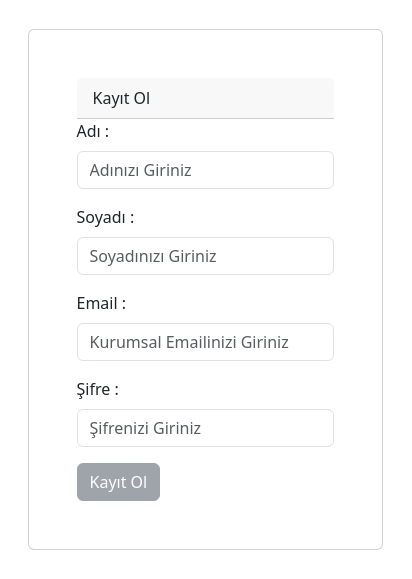
Test: Register Page › Error Messages › Surname input throws error for 2 chars
In the field with test id "soyad-input": (206, 256) [77,237,334,275], type "ko"
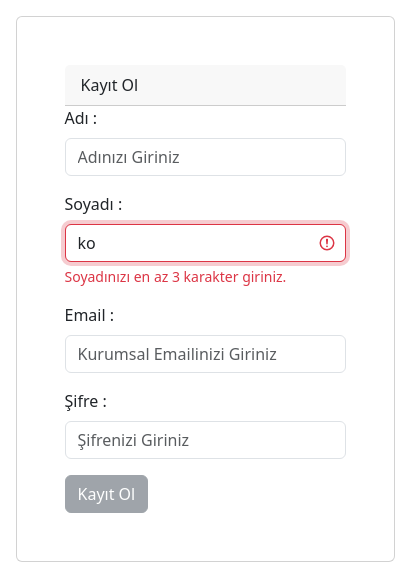
Result: the text "Soyadınızı en az 3 karakter giriniz." is shown at [64,267,286,286]
